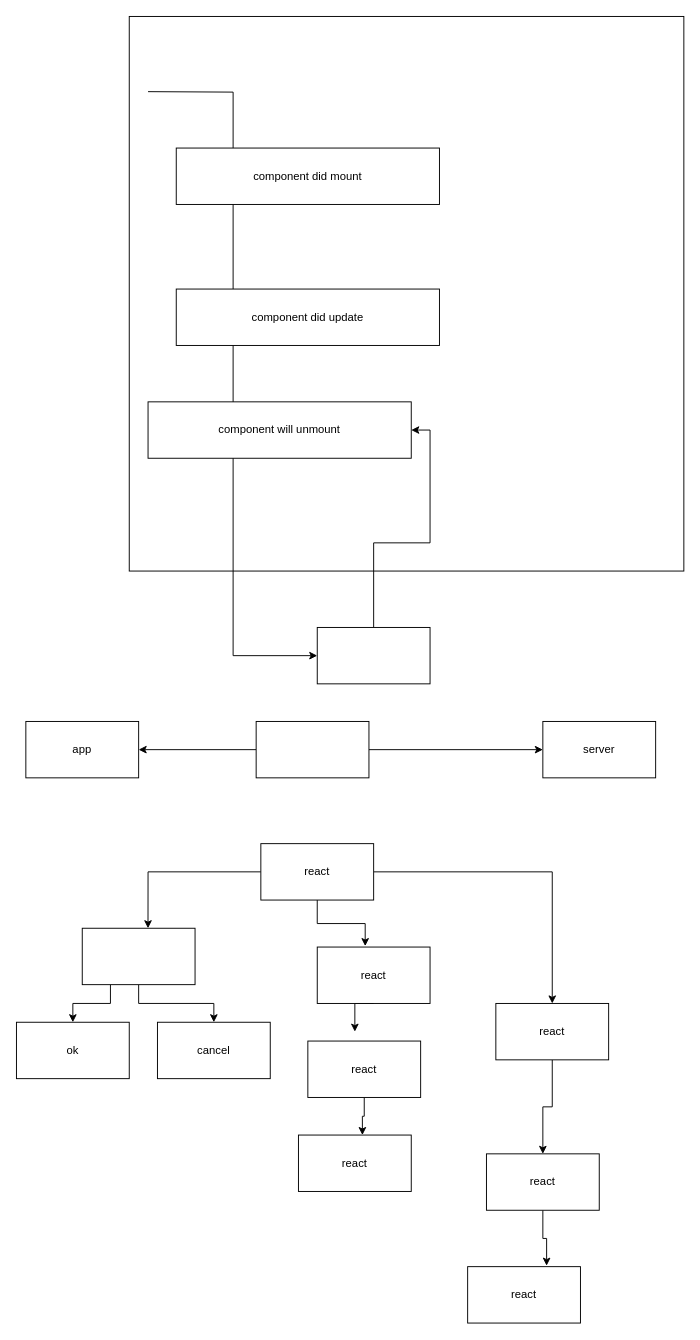
This 700x1340 diagram has some shape labels left out. The shapes that lost their labels are listed below. From the top down, each one's centre as x and y in pixels, then its label:
the point at 373,655: window
the point at 312,749: client
the point at 138,956: message
